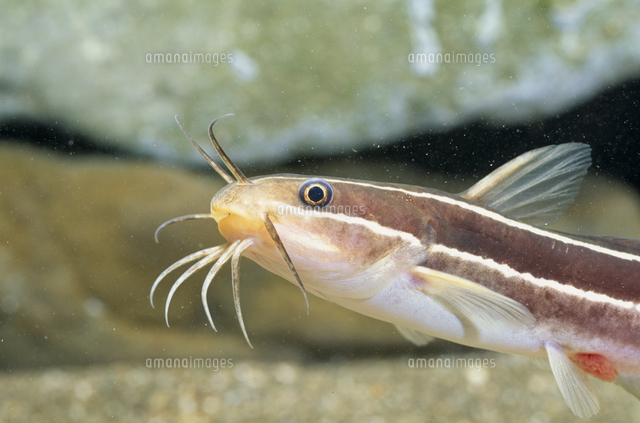gonzui: (150, 133, 640, 366)
